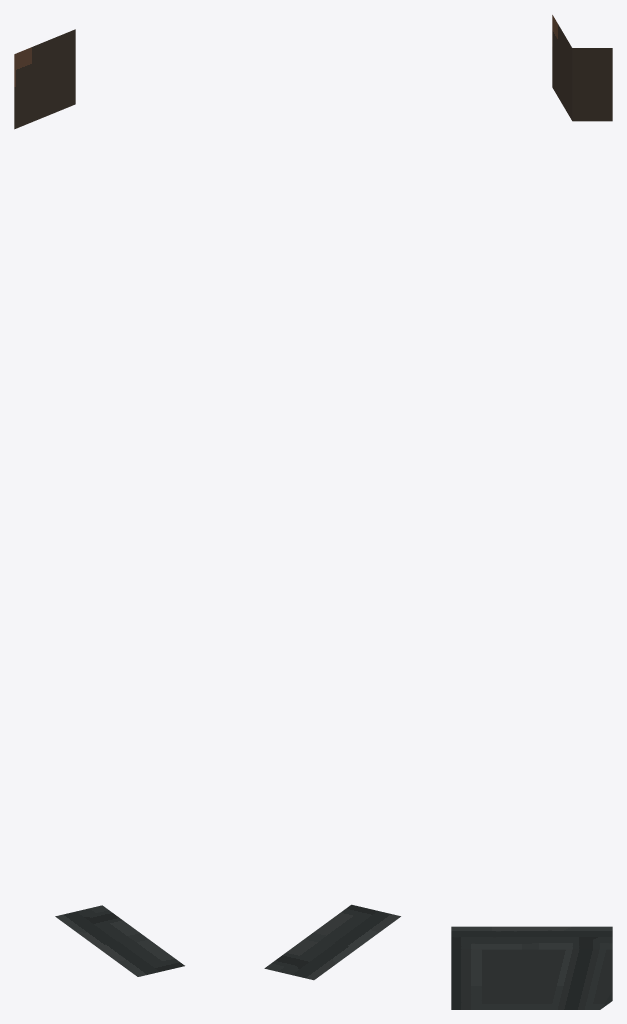
3 renders of one model, left to right at view 1: azimuth 30°, elevation 25°; view 2: azimuth 150°, elevation 25°; view 3: azimuth 270°, elevation 25°, orthographic. The views are drawn at different scales.
Size of the model in its own units: 1 by 6.34 by 1.
Materials: 3 (3 with a texture image).
